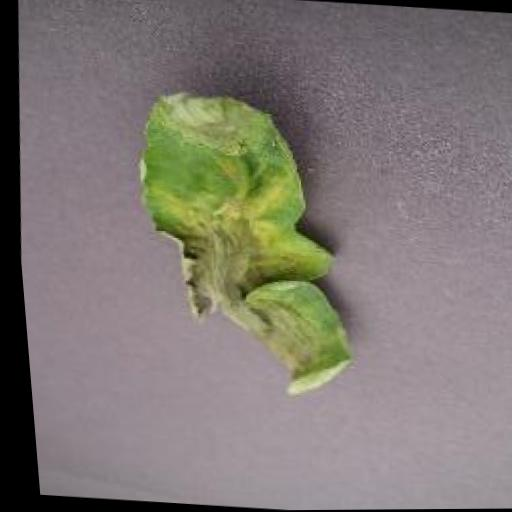Late Blight: (106, 84, 382, 404)
